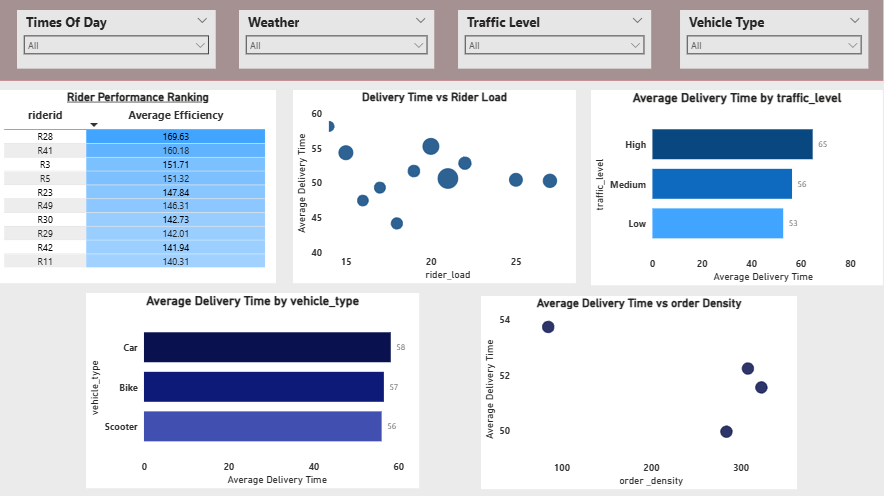

This screenshot's page, from the dashboard's own definition file:
{"tool":"powerbi","page":{"name":"Page 2","canvas":[1280,720],"ordinal":1},"visuals":[{"type":"tableEx","title":"Rider  Performance Ranking","fields":{"Values":["Food_Delivery_Times(F).riderid","Food_Delivery_Times(F).Average Efficiency"]},"box":[0,130,400,280],"z":0},{"type":"shape","box":[0,0,1280,116.7],"z":500},{"type":"scatterChart","title":" Delivery Time vs Rider Load","fields":{"X":["Food_Delivery_Times(F).rider_load"],"Y":["Food_Delivery_Times(F).Average Delivery Time"],"Size":["Food_Delivery_Times(F).Total Orders"]},"box":[425,130,410,280],"z":1000},{"type":"slicer","fields":{"Values":["Food_Delivery_Times(F).time_of_day"]},"box":[25,15,288.3,85],"z":2000},{"type":"slicer","fields":{"Values":["Food_Delivery_Times(F).weather"]},"box":[346.7,15,283.3,85],"z":3000},{"type":"slicer","fields":{"Values":["Food_Delivery_Times(F).traffic_level"]},"box":[663.3,15,280,85],"z":4000},{"type":"slicer","fields":{"Values":["Food_Delivery_Times(F).vehicle_type"]},"box":[985,15,273.3,85],"z":5000},{"type":"scatterChart","title":"Average Delivery Time vs order  Density","fields":{"X":["Food_Delivery_Times(F).order _density"],"Y":["Food_Delivery_Times(F).Average Delivery Time"]},"box":[696.7,428.3,458.3,280],"z":6000},{"type":"clusteredBarChart","fields":{"Category":["Food_Delivery_Times(F).vehicle_type"],"Y":["Food_Delivery_Times(F).Average Delivery Time"]},"box":[125,425,483.3,283.3],"z":7000},{"type":"clusteredBarChart","fields":{"Category":["Food_Delivery_Times(F).traffic_level"],"Y":["Food_Delivery_Times(F).Average Delivery Time"]},"box":[856.7,130,423.3,283.3],"z":8000}]}

Visuals, with their boxes in screenshot pixels (x1, y1, x2, y2), scaled from the page's 1280x720 canvas onto the 884x496 screenshot:
"Rider  Performance Ranking" tableEx: box(0, 90, 276, 282)
shape: box(0, 0, 883, 80)
" Delivery Time vs Rider Load" scatterChart: box(294, 90, 577, 282)
slicer - Food_Delivery_Times(F).time_of_day: box(17, 10, 216, 69)
slicer - Food_Delivery_Times(F).weather: box(239, 10, 435, 69)
slicer - Food_Delivery_Times(F).traffic_level: box(458, 10, 651, 69)
slicer - Food_Delivery_Times(F).vehicle_type: box(680, 10, 869, 69)
"Average Delivery Time vs order  Density" scatterChart: box(481, 295, 798, 488)
clusteredBarChart - Food_Delivery_Times(F).vehicle_type x Food_Delivery_Times(F).Average Delivery Time: box(86, 293, 420, 488)
clusteredBarChart - Food_Delivery_Times(F).traffic_level x Food_Delivery_Times(F).Average Delivery Time: box(592, 90, 883, 285)
